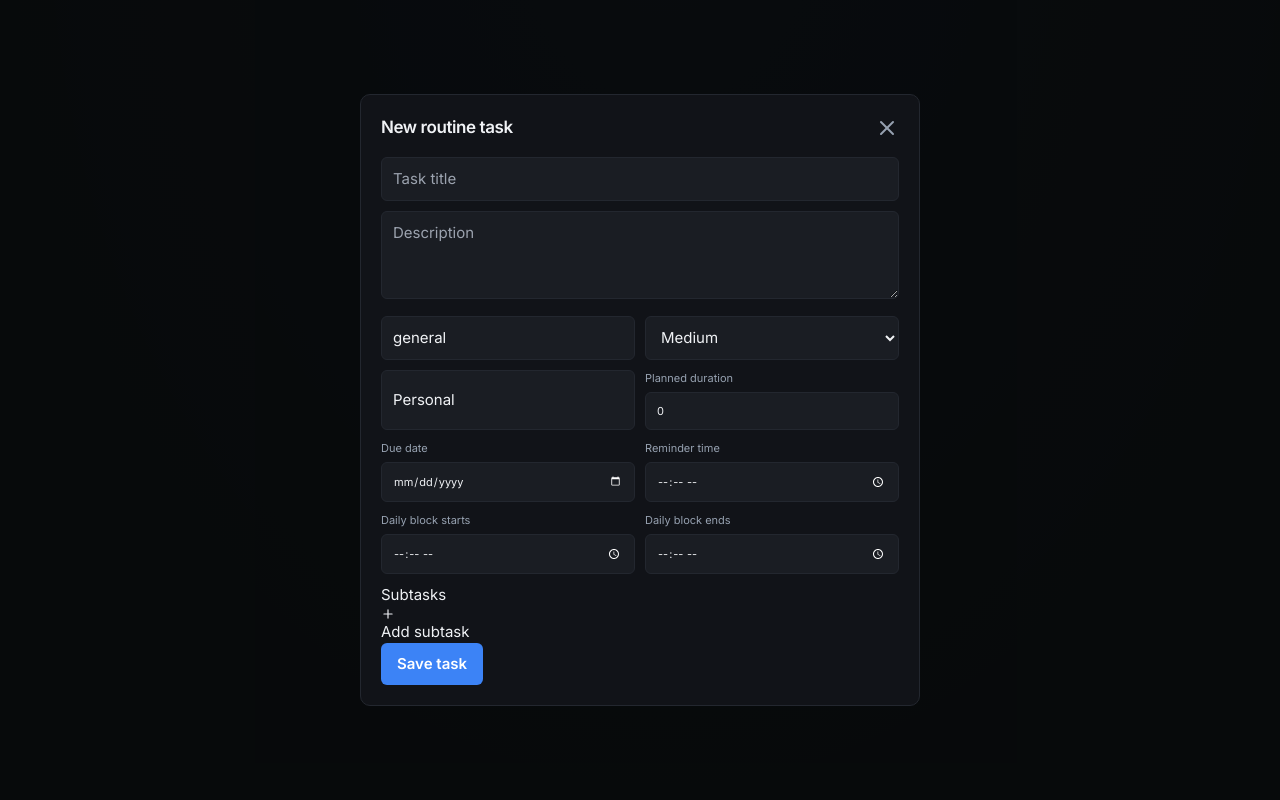
Test: TaskDialog › requires a title and a complete, increasing daily time block
Step 1. Click the button "Save task" → (432, 664), box 381,643 -> 483,685
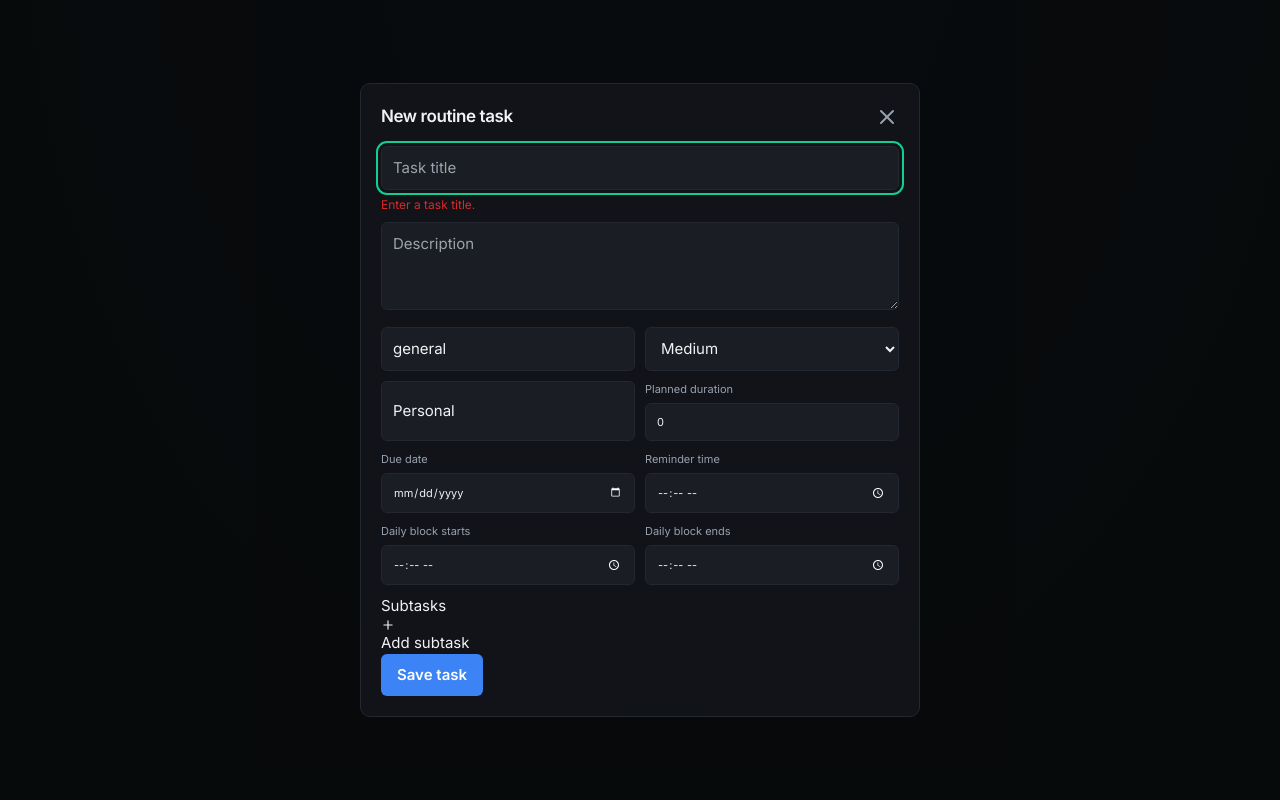
Result: the text "Enter a task title." is shown at 381,197 -> 475,212
Step 2. Type "Read" into the field with placeholder "Task title" → (640, 168), box 381,146 -> 899,190
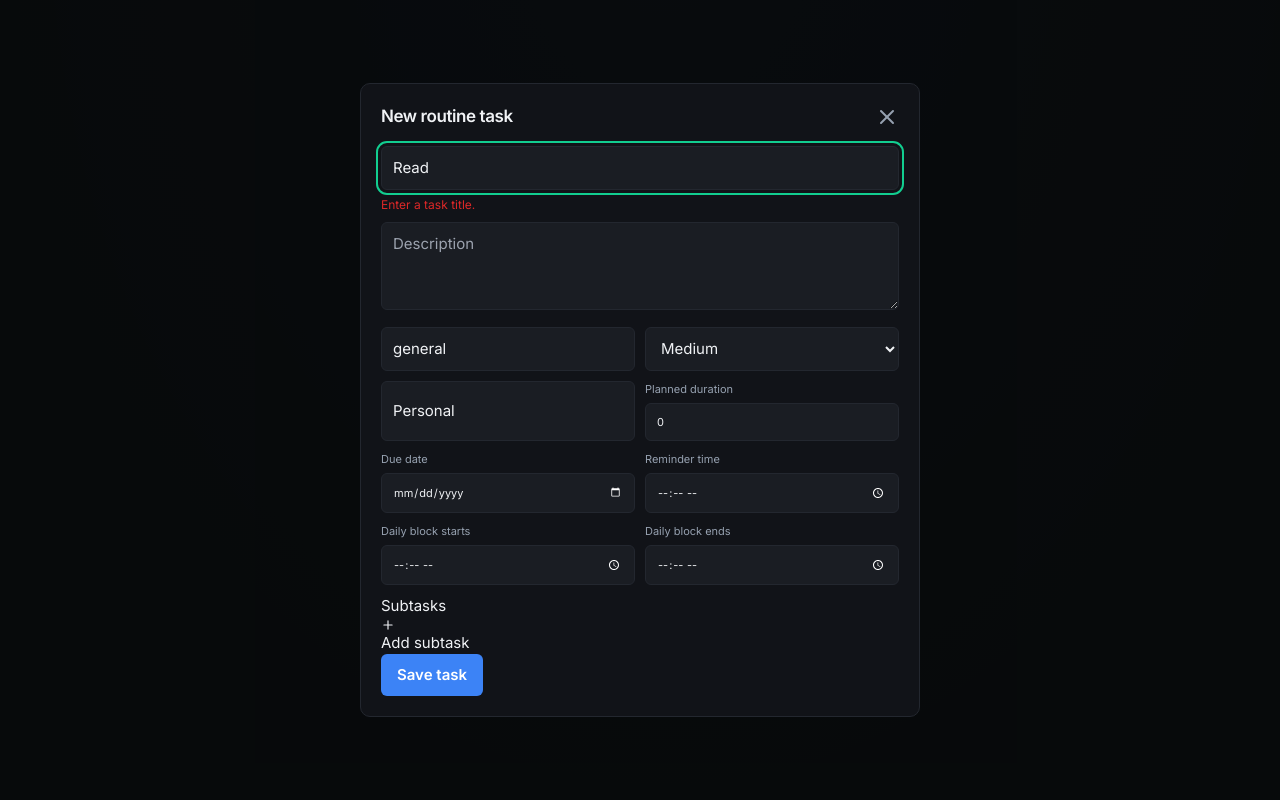
Step 3. Type "09:00" into the time field labelled "Daily block starts" → (508, 565), box 381,544 -> 635,585
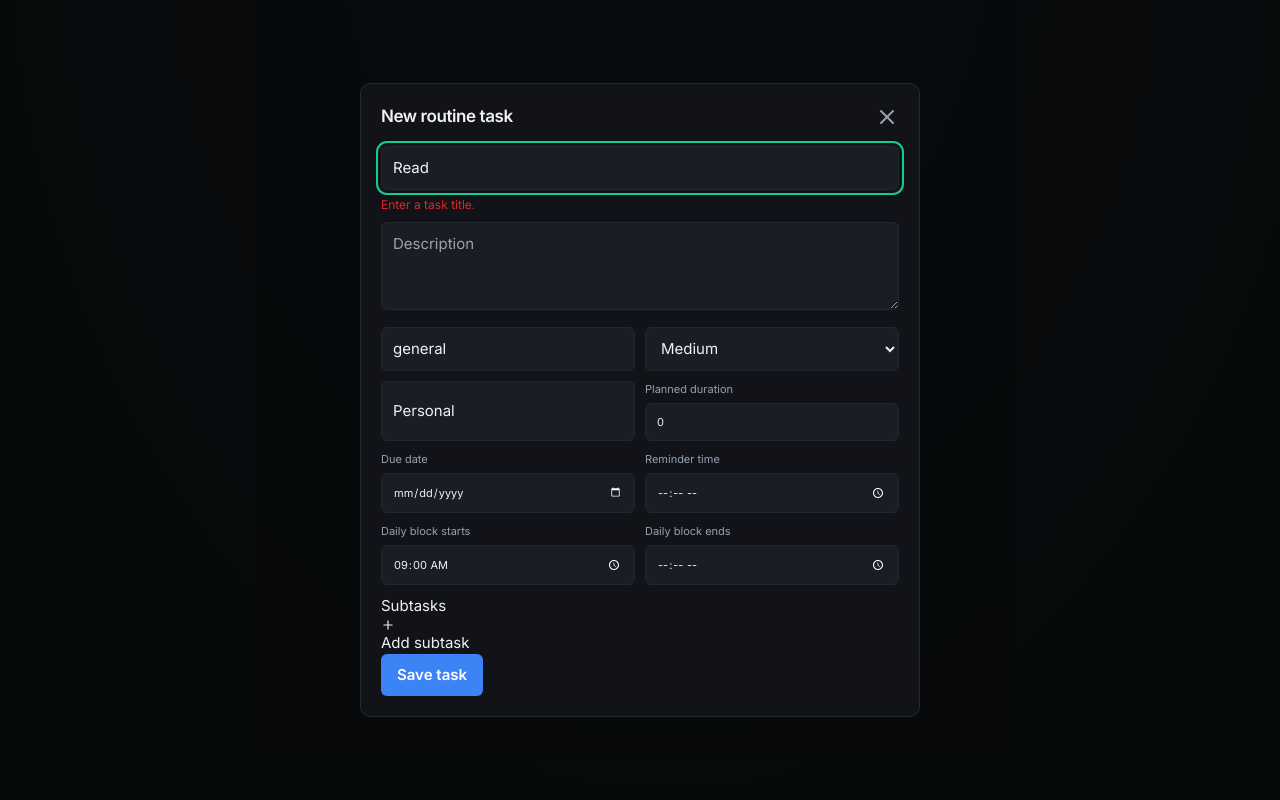
Step 4. Click the button "Save task" → (432, 675), box 381,654 -> 483,696
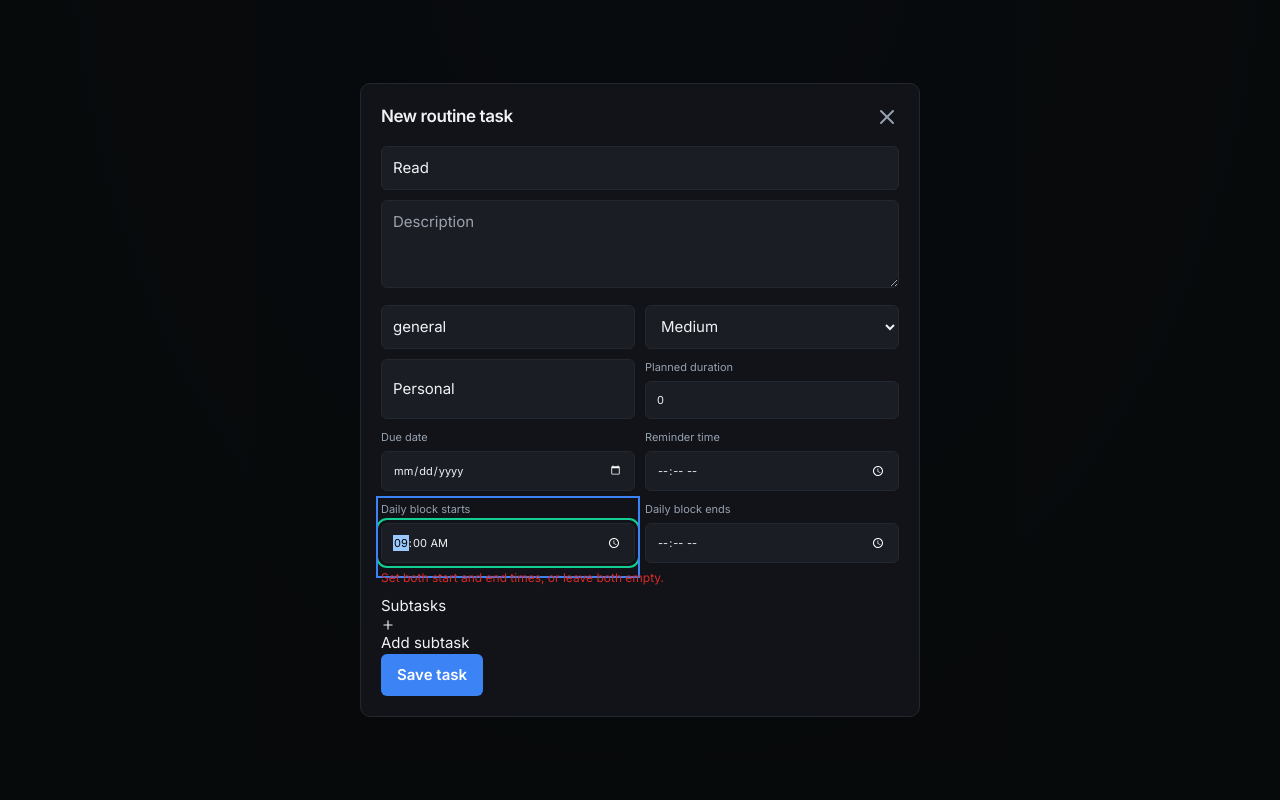
Result: the text "Set both start and end times, or leave both empty." is shown at 381,570 -> 664,585
Step 5. Type "08:30" into the time field labelled "Daily block ends" → (772, 543), box 645,522 -> 899,563
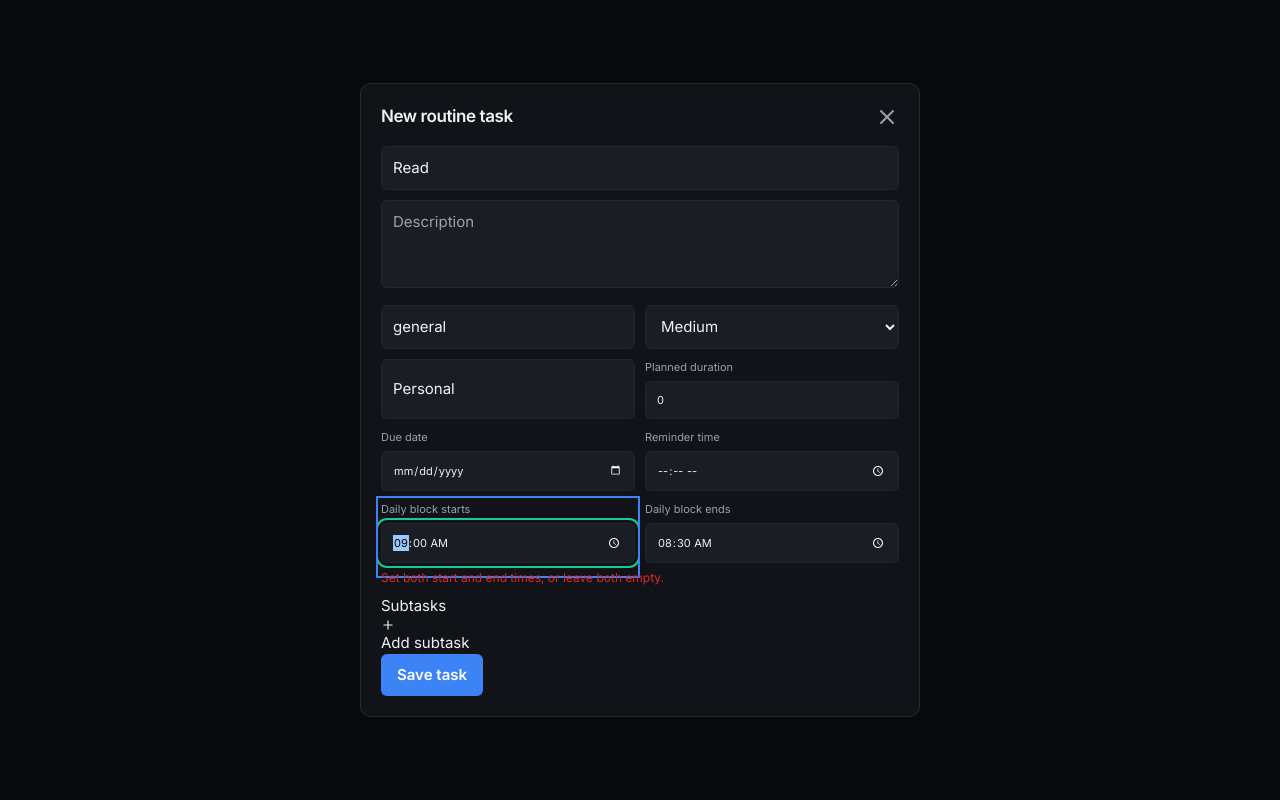
Step 6. Click the button "Save task" → (432, 675), box 381,654 -> 483,696
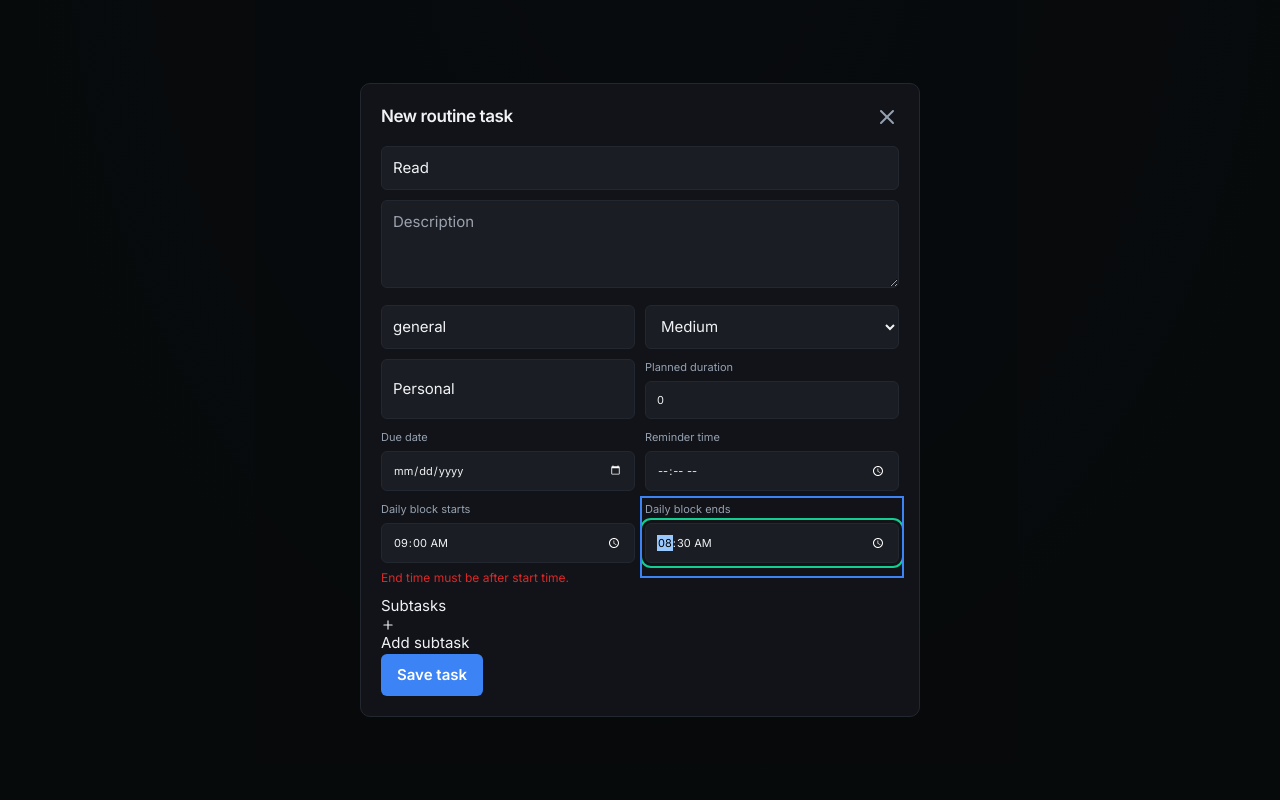
Result: the text "End time must be after start time." is shown at 381,570 -> 569,585
